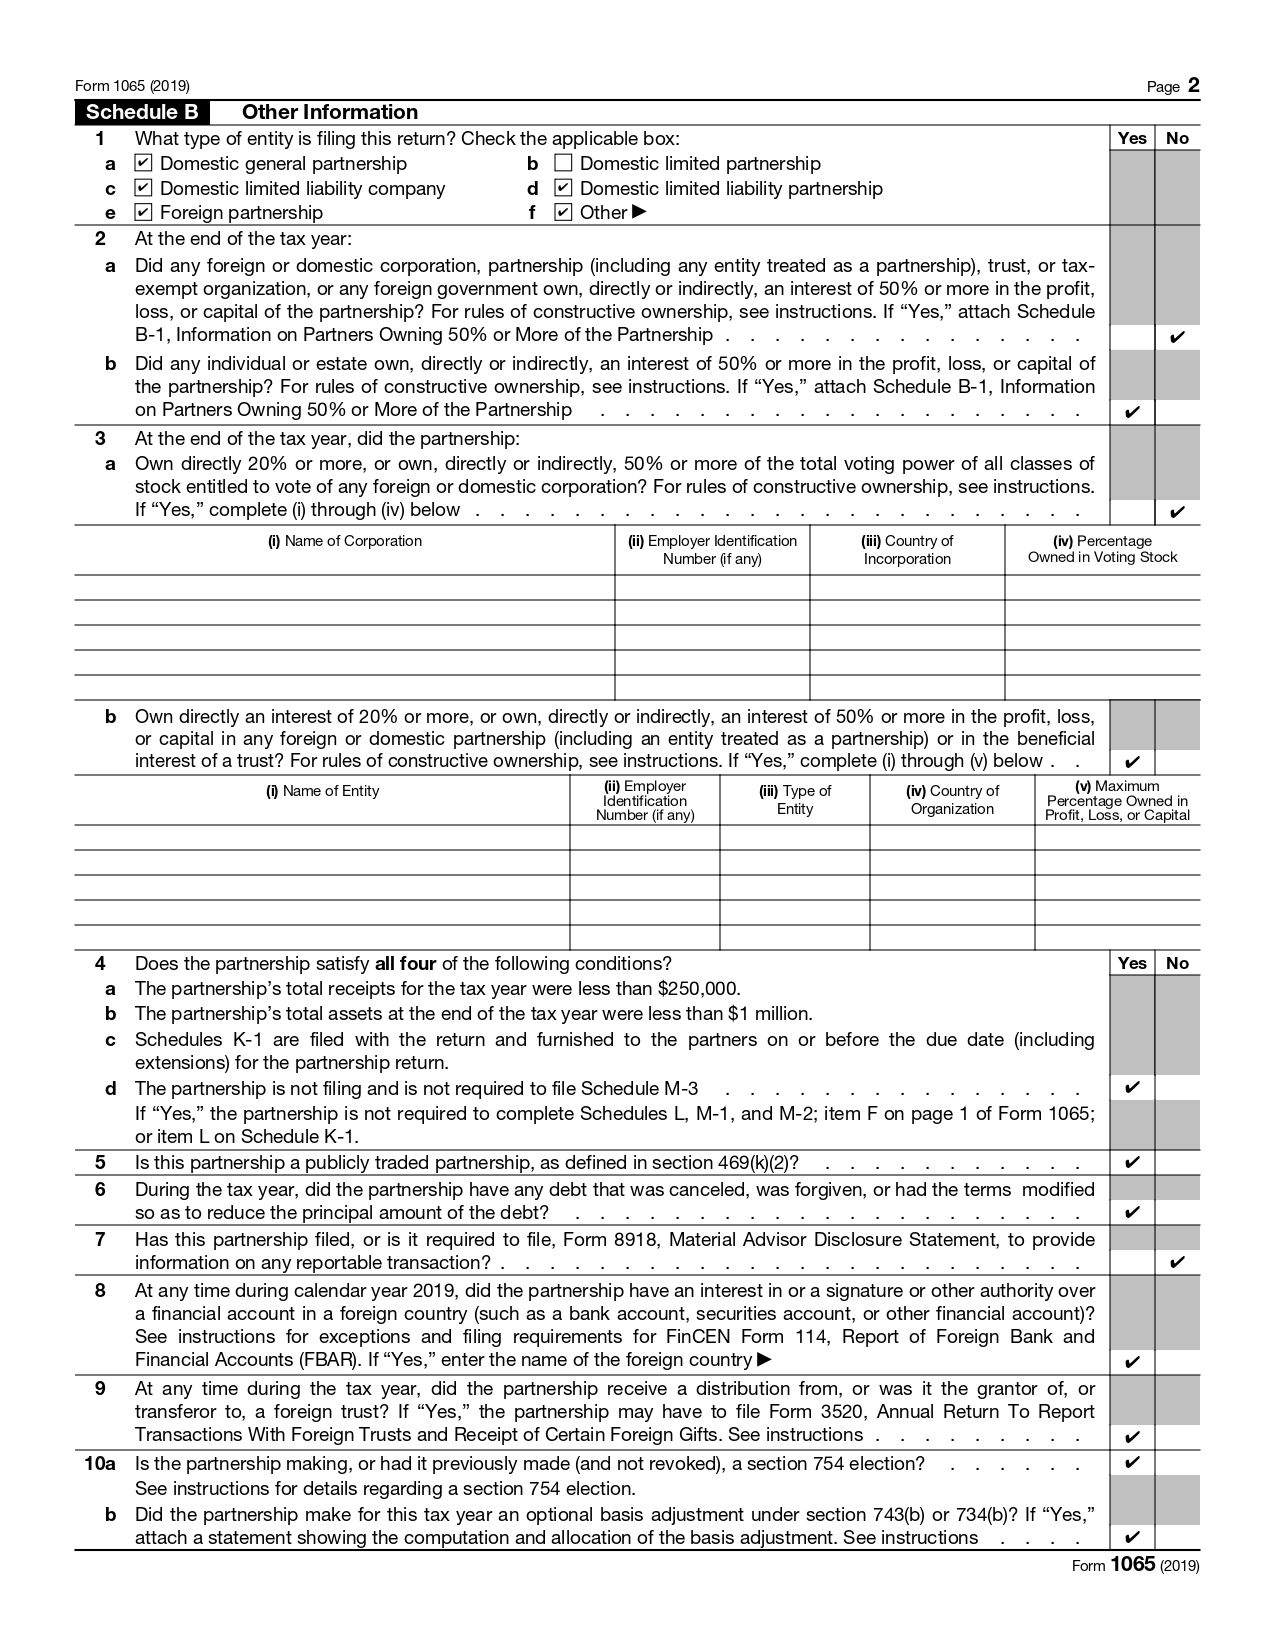checkbox: (548, 175, 576, 198), (550, 149, 573, 174), (131, 178, 153, 196), (134, 151, 153, 170), (133, 204, 151, 221), (550, 204, 568, 222)
checkmark: (1153, 1246, 1201, 1276), (1109, 1449, 1156, 1479), (1156, 324, 1201, 354), (1154, 498, 1199, 526), (1110, 1197, 1154, 1225), (1112, 1424, 1154, 1452), (1109, 750, 1156, 775), (1112, 1349, 1156, 1375), (1112, 399, 1154, 426), (1112, 1200, 1154, 1225), (1110, 1524, 1152, 1550), (1110, 1077, 1154, 1100)
